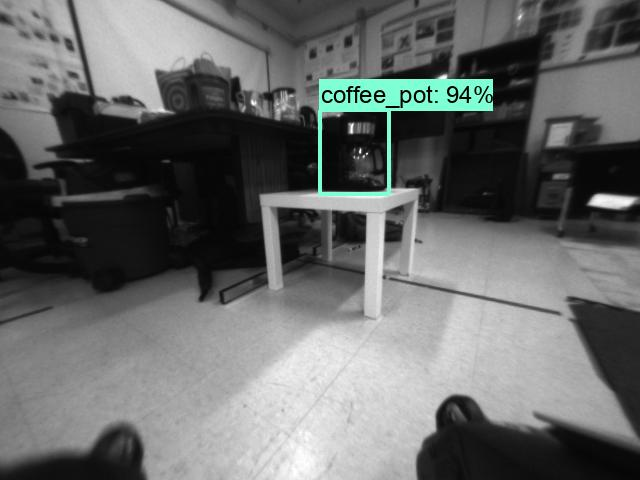coffee_pot: (319, 112, 388, 193)
